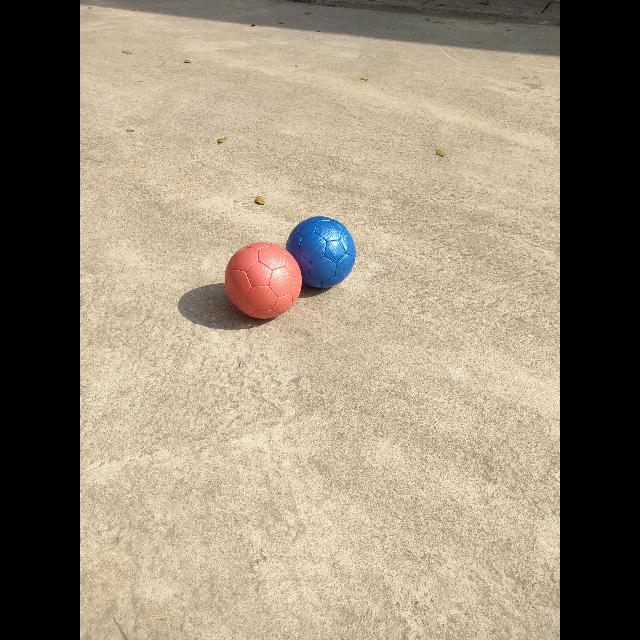B: (285, 216, 356, 289)
R: (225, 242, 302, 319)
